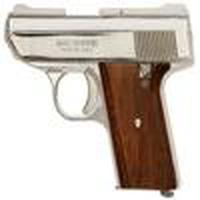gun: (3, 6, 197, 195)
